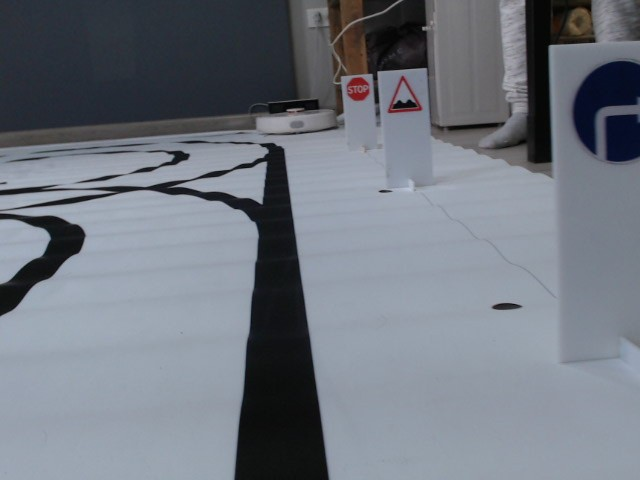Nerov: (386, 75, 425, 114)
Right: (569, 58, 640, 168)
